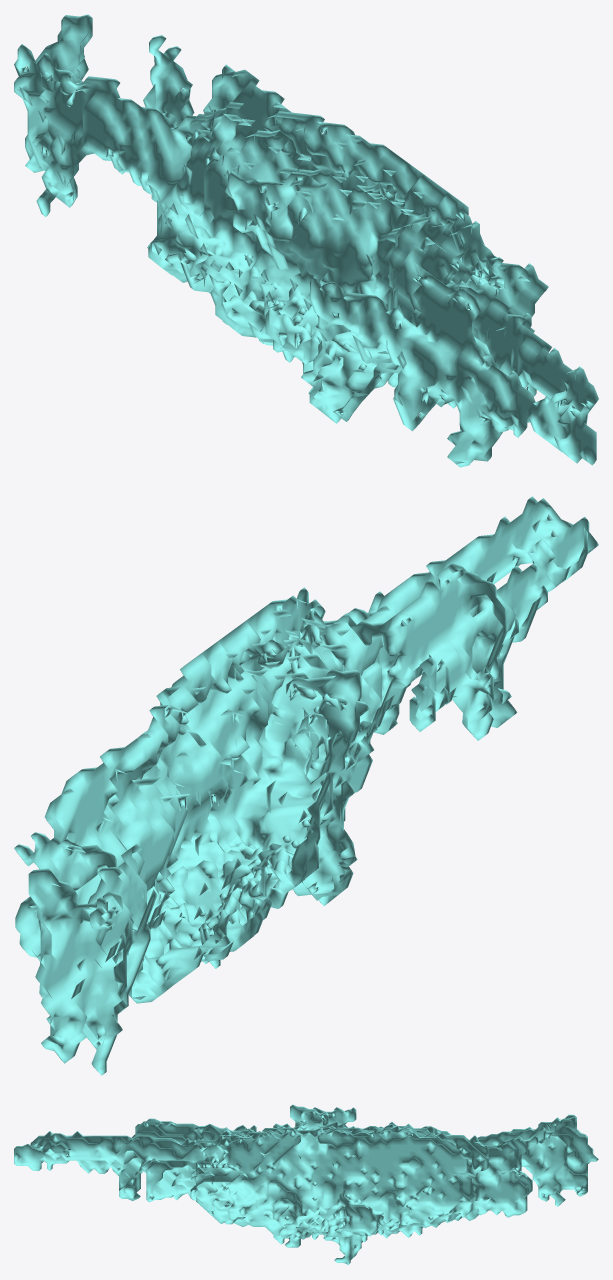
The model's file is osteocyte_134.glb.
3 views of the same model, one above another, from view 1: azimuth 30°, elevation 25°; view 2: azimuth 150°, elevation 25°; view 3: azimuth 270°, elevation 25° (orthographic). The views are drawn at different scales.
Visible parts, largest first — view 1: osteocyte_134; view 2: osteocyte_134; view 3: osteocyte_134.
Boxes of the visible parts, bbox=[...] form: osteocyte_134: bbox=[14, 14, 598, 467]; osteocyte_134: bbox=[14, 496, 598, 1075]; osteocyte_134: bbox=[14, 1104, 598, 1264].
Bounding box in the file's own units: 10.59 × 13.48 × 51.04.
